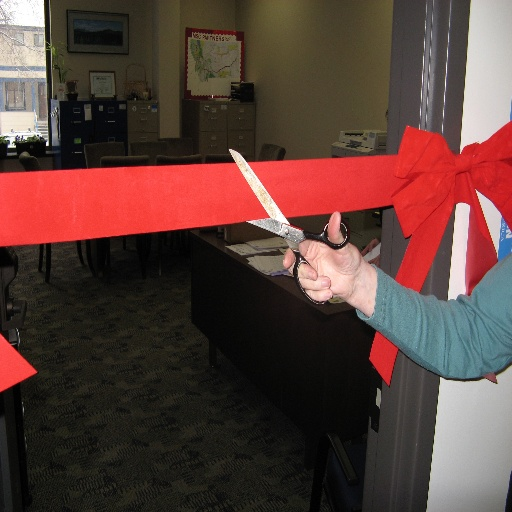hand: (287, 209, 373, 312)
